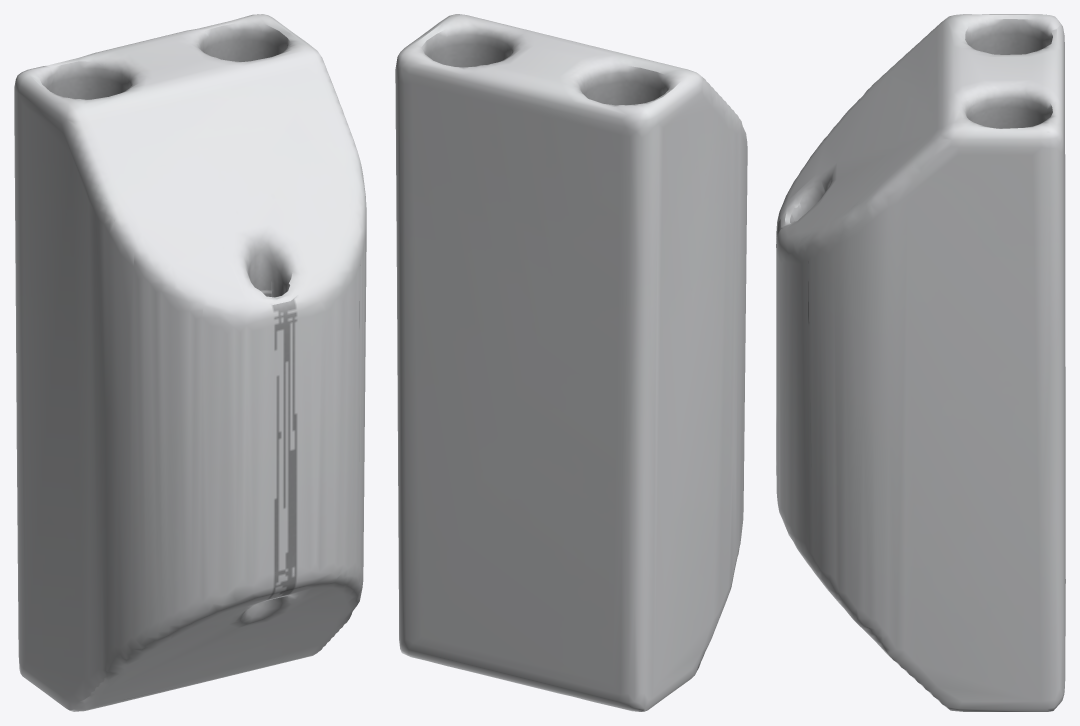
File: right_finger2_lower.glb
The picture shows the model from 3 angles, left to right: view 1: azimuth 30°, elevation 25°; view 2: azimuth 150°, elevation 25°; view 3: azimuth 270°, elevation 25°; orthographic projection. The views are drawn at different scales.
Visible parts, largest first — view 1: right_finger2_lower; view 2: right_finger2_lower; view 3: right_finger2_lower.
Boxes of the visible parts, x1,y1,x2,y2 form: right_finger2_lower: (14, 14, 366, 711); right_finger2_lower: (395, 14, 747, 711); right_finger2_lower: (776, 14, 1065, 711).
Bounding box in the file's own units: 0.0125 × 0.028 × 0.0125.
Materials: 1 (1 with a texture image).
